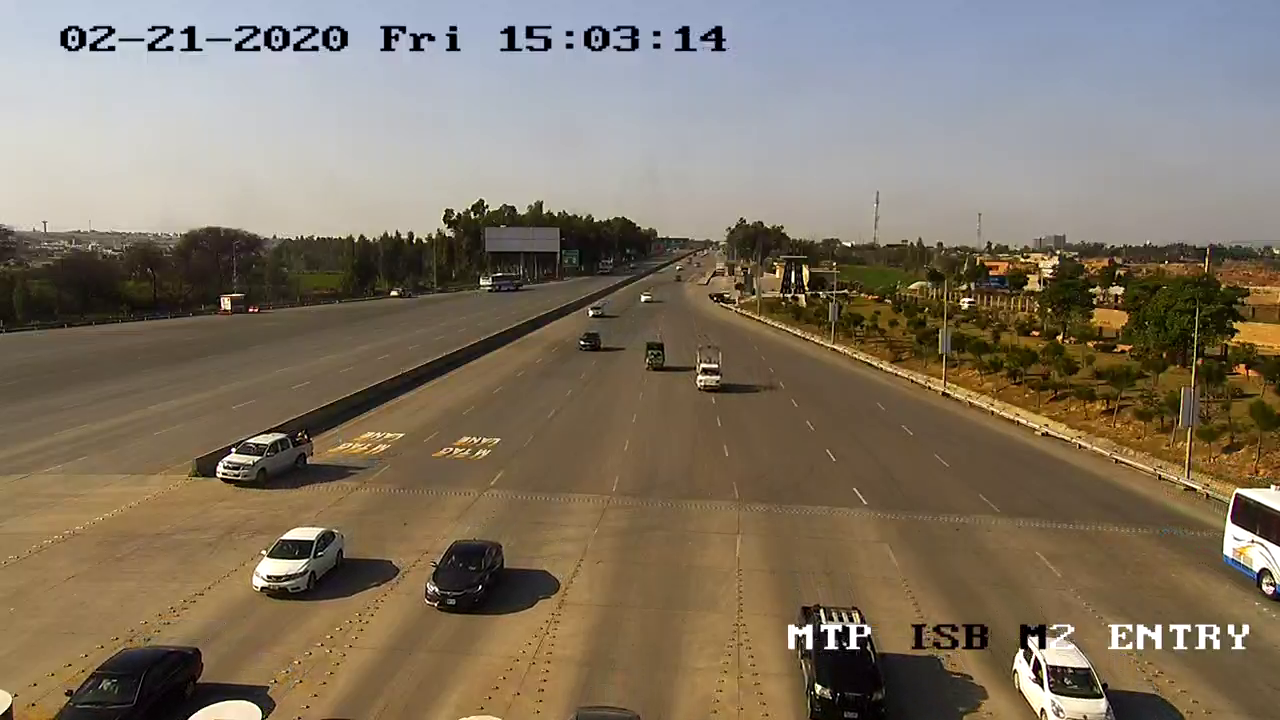f1: (247, 514, 354, 607), (414, 526, 512, 618), (212, 418, 320, 492)
